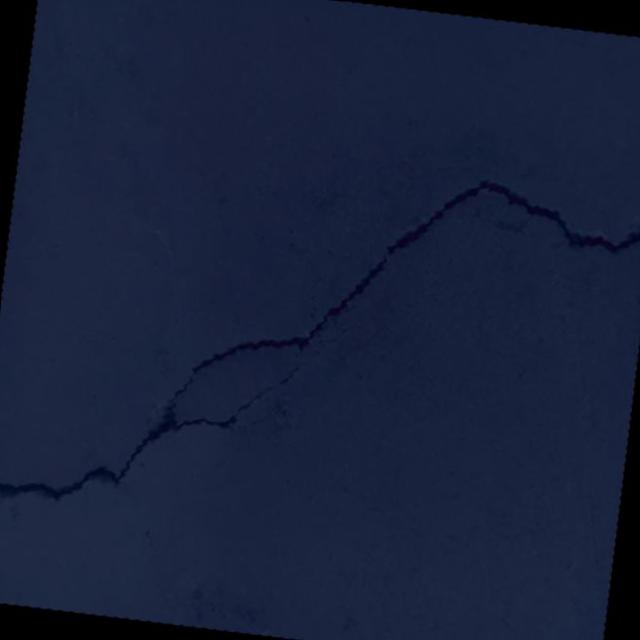crack: (0, 109, 640, 614)
